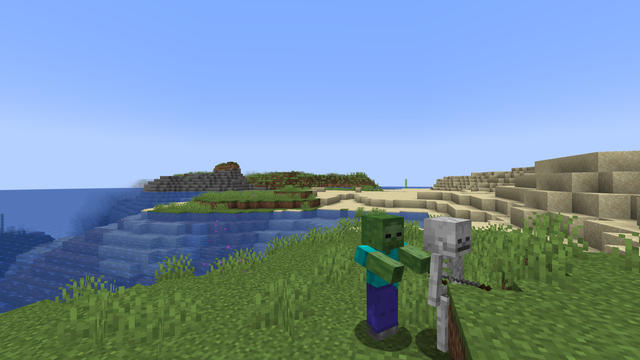squelettes: (425, 216, 472, 357)
zombies: (361, 216, 400, 347)
